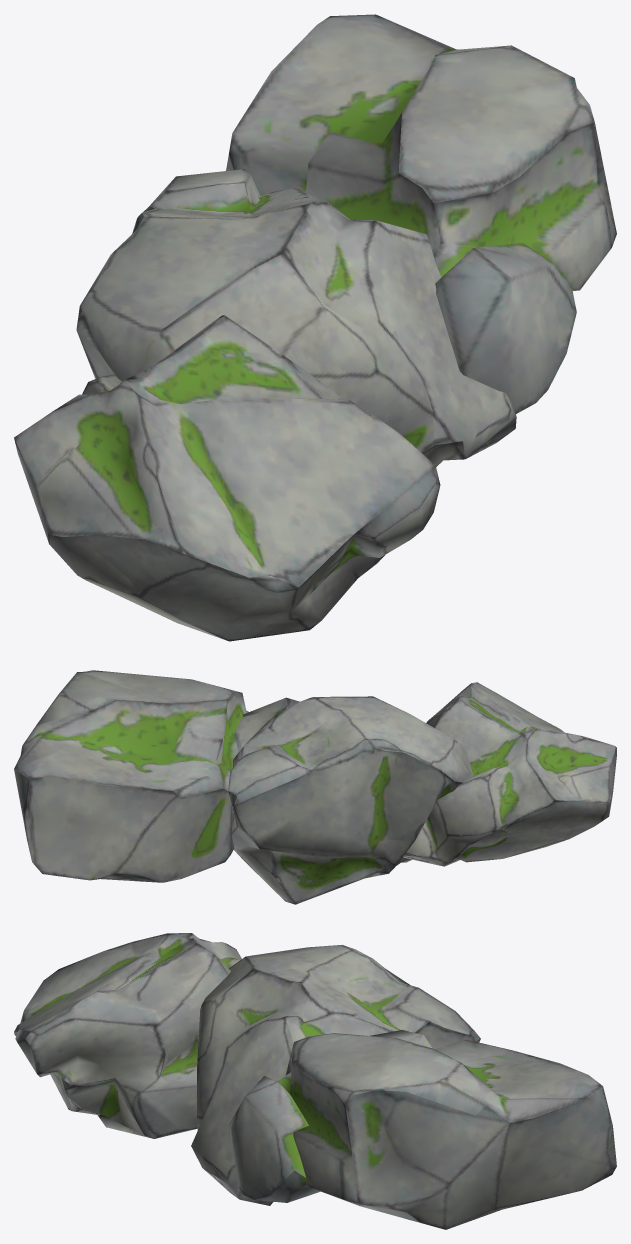
File: MainCityDecor_MonsterPartner_Ruins.glb
3 renders of one model, top to bottom at view 1: azimuth 30°, elevation 25°; view 2: azimuth 150°, elevation 25°; view 3: azimuth 270°, elevation 25°, orthographic. The views are drawn at different scales.
Parts seen in each view (by area): view 1: SM_Gray_Stone_Small_01_LOD0__un5756828711806603984, SM_Gray_Stone_Small_03_LOD0__un4011812278320009936, SM_Gray_Stone_Small_01_LOD0__un4588285765081141968; view 2: SM_Gray_Stone_Small_03_LOD0__un4011812278320009936, SM_Gray_Stone_Small_01_LOD0__un4588285765081141968, SM_Gray_Stone_Small_01_LOD0__un5756828711806603984; view 3: SM_Gray_Stone_Small_03_LOD0__un4011812278320009936, SM_Gray_Stone_Small_01_LOD0__un5756828711806603984, SM_Gray_Stone_Small_01_LOD0__un4588285765081141968.
Boxes of the visible parts, x1,y1,x2,y2 form: SM_Gray_Stone_Small_01_LOD0__un5756828711806603984: [14, 315, 440, 641]; SM_Gray_Stone_Small_03_LOD0__un4011812278320009936: [226, 14, 616, 413]; SM_Gray_Stone_Small_01_LOD0__un4588285765081141968: [76, 169, 516, 466]; SM_Gray_Stone_Small_03_LOD0__un4011812278320009936: [14, 670, 248, 882]; SM_Gray_Stone_Small_01_LOD0__un4588285765081141968: [228, 696, 473, 904]; SM_Gray_Stone_Small_01_LOD0__un5756828711806603984: [403, 682, 616, 866]; SM_Gray_Stone_Small_03_LOD0__un4011812278320009936: [229, 1030, 616, 1229]; SM_Gray_Stone_Small_01_LOD0__un5756828711806603984: [14, 933, 241, 1138]; SM_Gray_Stone_Small_01_LOD0__un4588285765081141968: [191, 945, 480, 1205].
Bounding box in the file's own units: 3.95 × 1.53 × 4.14.
1 material, 1 textured.
